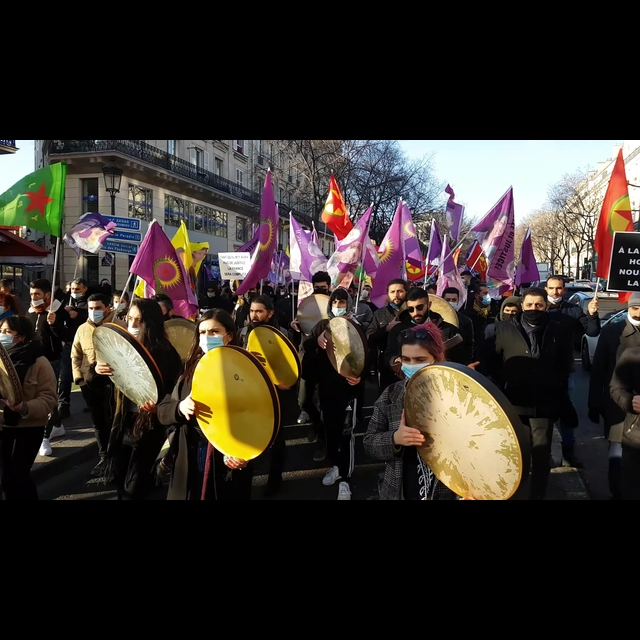PKK: (323, 184, 348, 220)
YPJ: (13, 177, 51, 224)
